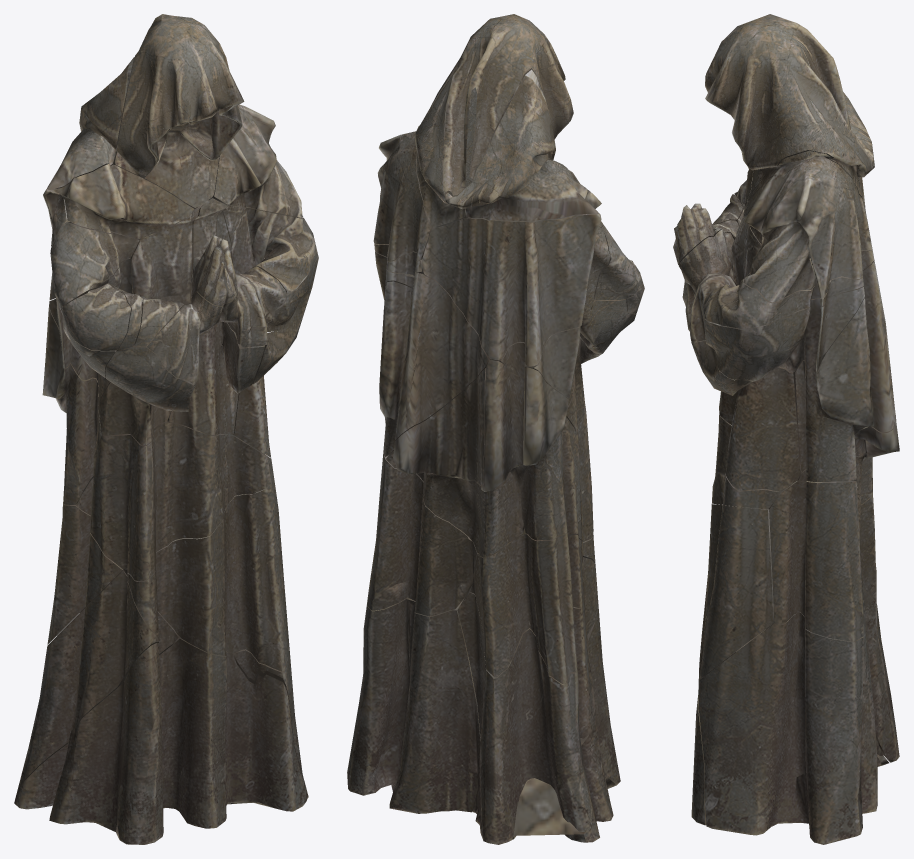
Rendered from SM_Monk_Shattered_01 1.fbx.
The picture shows the model from 3 angles, left to right: view 1: azimuth 30°, elevation 25°; view 2: azimuth 150°, elevation 25°; view 3: azimuth 270°, elevation 25°; orthographic projection. The views are drawn at different scales.
Parts seen in each view (by area): view 1: SM_Monk_Brocken_cell.069, SM_Monk_Brocken_cell.079, SM_Monk_Brocken_cell.062, SM_Monk_Brocken_cell.073, SM_Monk_Brocken_cell.067, SM_Monk_Brocken_cell.077, SM_Monk_Brocken_cell.060, SM_Monk_Brocken_cell.080, SM_Monk_Brocken_cell.072, SM_Monk_Brocken_cell.064, SM_Monk_Brocken_cell.059, SM_Monk_Brocken_cell.082 (+17 smaller); view 2: SM_Monk_Brocken_cell.066, SM_Monk_Brocken_cell.067, SM_Monk_Brocken_cell.070, SM_Monk_Brocken_cell.073, SM_Monk_Brocken_cell.076, SM_Monk_Brocken_cell.082, SM_Monk_Brocken_cell.059, SM_Monk_Brocken_cell.086, SM_Monk_Brocken_cell.083, SM_Monk_Brocken_cell.084, SM_Monk_Brocken_cell.069, SM_Monk_Brocken_cell.080 (+6 smaller); view 3: SM_Monk_Brocken_cell.066, SM_Monk_Brocken_cell.073, SM_Monk_Brocken_cell.080, SM_Monk_Brocken_cell.083, SM_Monk_Brocken_cell.076, SM_Monk_Brocken_cell.062, SM_Monk_Brocken_cell.087, SM_Monk_Brocken_cell.068, SM_Monk_Brocken_cell.064, SM_Monk_Brocken_cell.074, SM_Monk_Brocken_cell.089, SM_Monk_Brocken_cell.067 (+10 smaller).
Part boxes in pixels (x1,y1,x2,y2): SM_Monk_Brocken_cell.069: (14, 638, 306, 844); SM_Monk_Brocken_cell.079: (76, 421, 273, 580); SM_Monk_Brocken_cell.062: (123, 476, 288, 671); SM_Monk_Brocken_cell.073: (115, 14, 244, 208); SM_Monk_Brocken_cell.067: (18, 569, 180, 788); SM_Monk_Brocken_cell.077: (53, 164, 194, 238); SM_Monk_Brocken_cell.060: (98, 316, 196, 445); SM_Monk_Brocken_cell.080: (208, 104, 303, 217); SM_Monk_Brocken_cell.072: (167, 300, 264, 435); SM_Monk_Brocken_cell.064: (192, 200, 317, 294); SM_Monk_Brocken_cell.059: (42, 307, 101, 504); SM_Monk_Brocken_cell.082: (47, 501, 122, 644); SM_Monk_Brocken_cell.066: (347, 597, 481, 824); SM_Monk_Brocken_cell.067: (457, 557, 598, 844); SM_Monk_Brocken_cell.070: (422, 213, 610, 366); SM_Monk_Brocken_cell.073: (415, 14, 573, 227); SM_Monk_Brocken_cell.076: (379, 273, 489, 456); SM_Monk_Brocken_cell.082: (470, 530, 583, 683); SM_Monk_Brocken_cell.059: (483, 359, 575, 540); SM_Monk_Brocken_cell.086: (386, 368, 524, 557); SM_Monk_Brocken_cell.083: (367, 452, 477, 616); SM_Monk_Brocken_cell.084: (445, 69, 598, 221); SM_Monk_Brocken_cell.069: (472, 604, 620, 842); SM_Monk_Brocken_cell.080: (373, 125, 434, 260); SM_Monk_Brocken_cell.066: (698, 600, 883, 844); SM_Monk_Brocken_cell.073: (705, 14, 872, 201); SM_Monk_Brocken_cell.080: (743, 150, 871, 302); SM_Monk_Brocken_cell.083: (769, 481, 863, 641); SM_Monk_Brocken_cell.076: (793, 259, 895, 481); SM_Monk_Brocken_cell.062: (700, 504, 774, 678); SM_Monk_Brocken_cell.087: (725, 366, 800, 491); SM_Monk_Brocken_cell.068: (704, 307, 810, 381); SM_Monk_Brocken_cell.064: (705, 217, 873, 328); SM_Monk_Brocken_cell.074: (679, 229, 735, 342); SM_Monk_Brocken_cell.089: (779, 286, 864, 372); SM_Monk_Brocken_cell.067: (766, 589, 899, 762).
Bounding box in the file's own units: 72.33 × 205 × 55.54.
